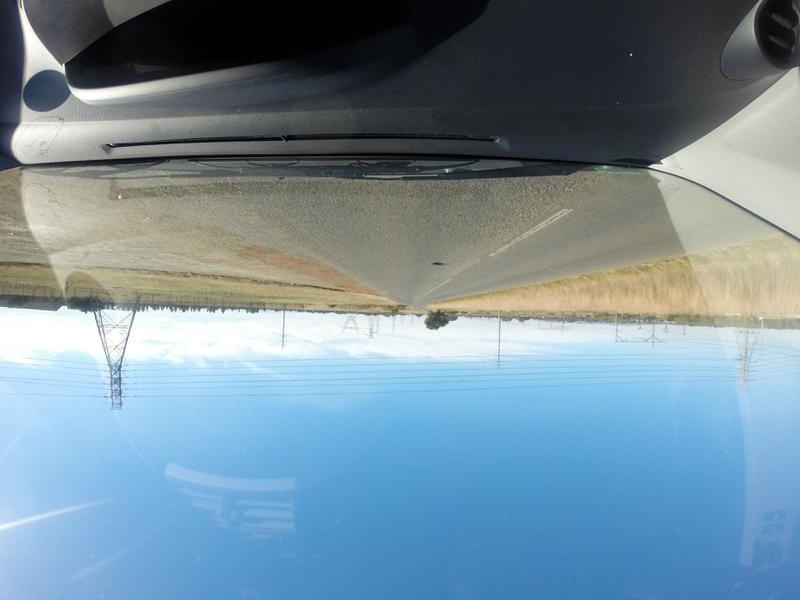pothole: (430, 258, 453, 269)
